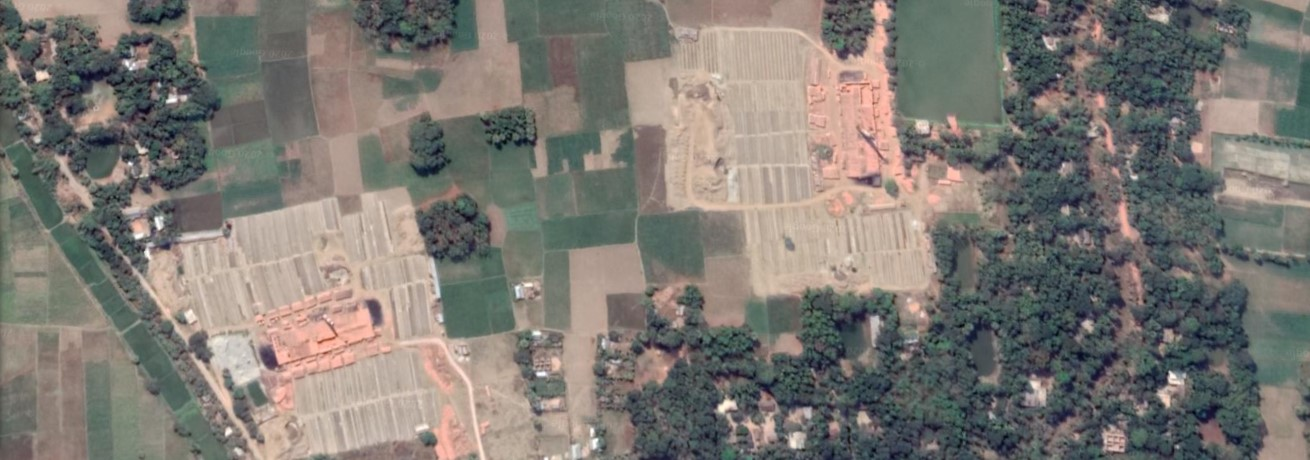kiln: (829, 77, 897, 178), (271, 312, 380, 356)
